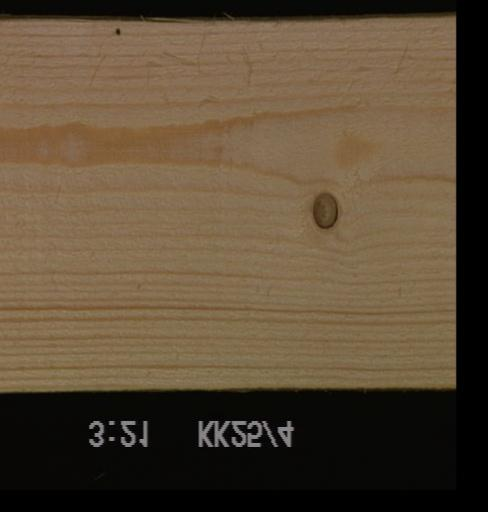dry_knot: (309, 189, 337, 229)
